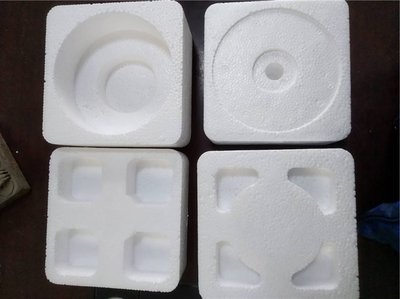5/可回收垃圾/泡沫: (196, 149, 360, 299), (40, 1, 193, 147), (203, 1, 350, 145), (44, 147, 186, 292)
